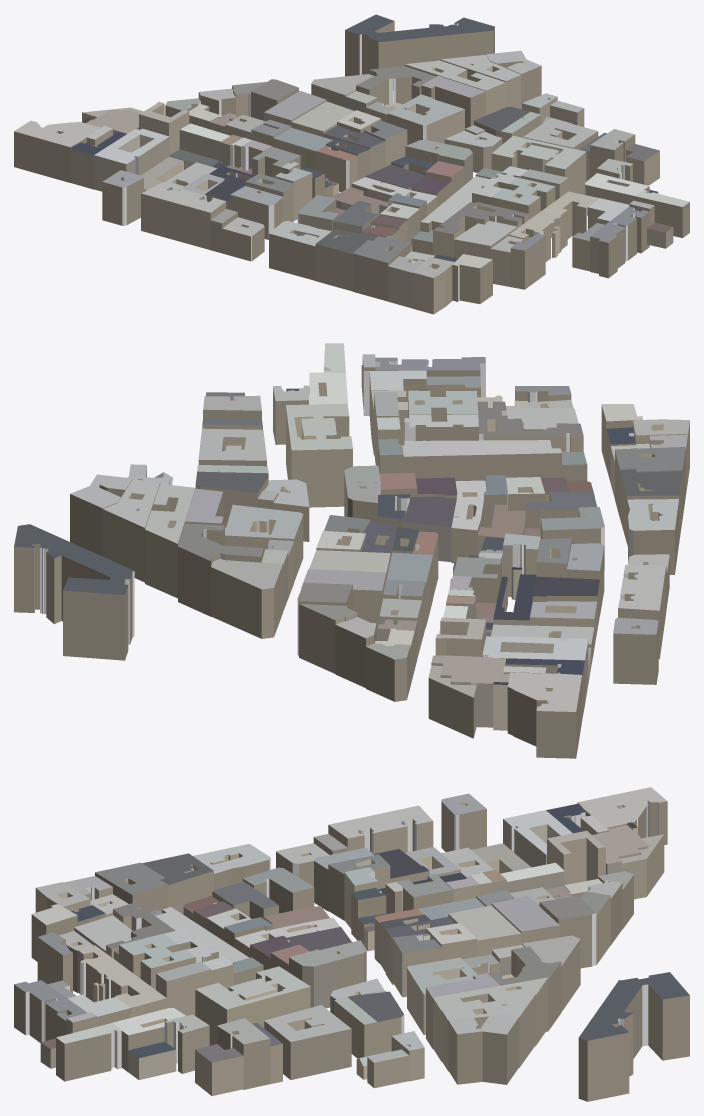
3 views of the same model, one above another, from view 1: azimuth 30°, elevation 25°; view 2: azimuth 150°, elevation 25°; view 3: azimuth 270°, elevation 25° (orthographic). The views are drawn at different scales.
Visible parts, largest first — view 1: tuile; view 2: tuile; view 3: tuile.
Part boxes in pixels (box(x1,y1,x2,y2)): tuile: box(14, 14, 689, 314); tuile: box(14, 343, 689, 758); tuile: box(14, 787, 689, 1101).
Bounding box in the file's own units: 273 × 29.67 × 283.
